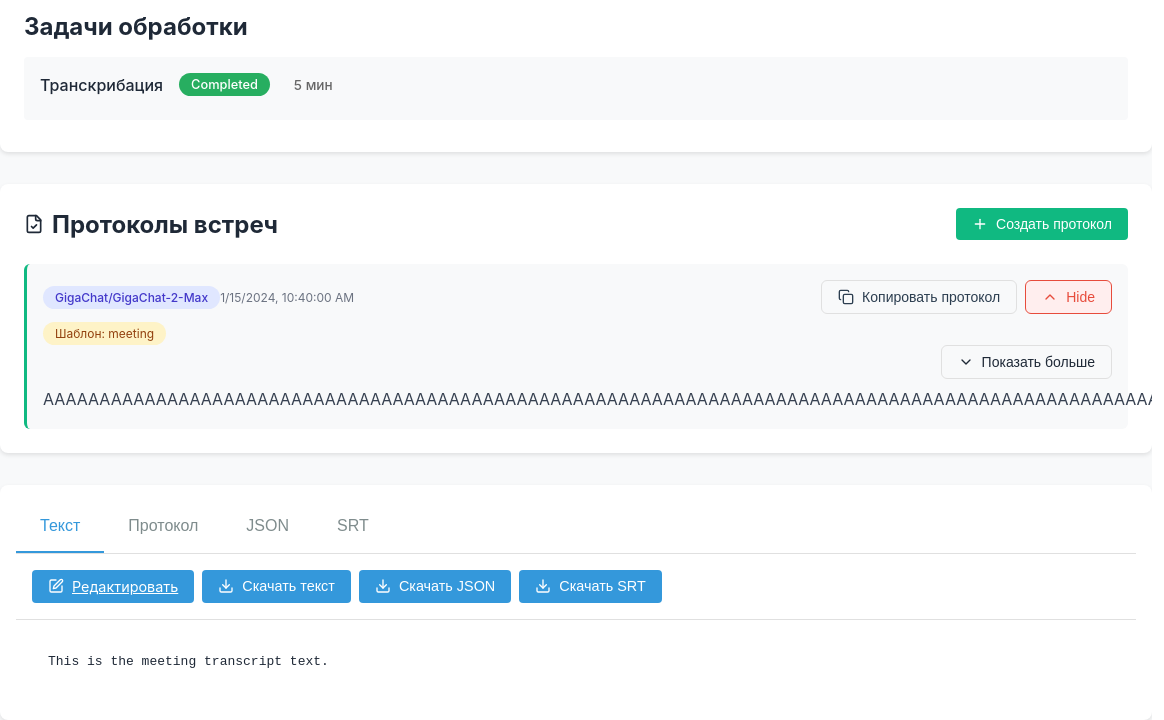
TranscriptDetailPage › Summary Display › should expand long summaries
The width and height of the screenshot is (1164, 720).
(page scrolled)
expect the text "Показать больше" is shown: met, box [982,354,1095,370]
Click the button "Показать больше": (1026, 362) [941,345,1112,379]
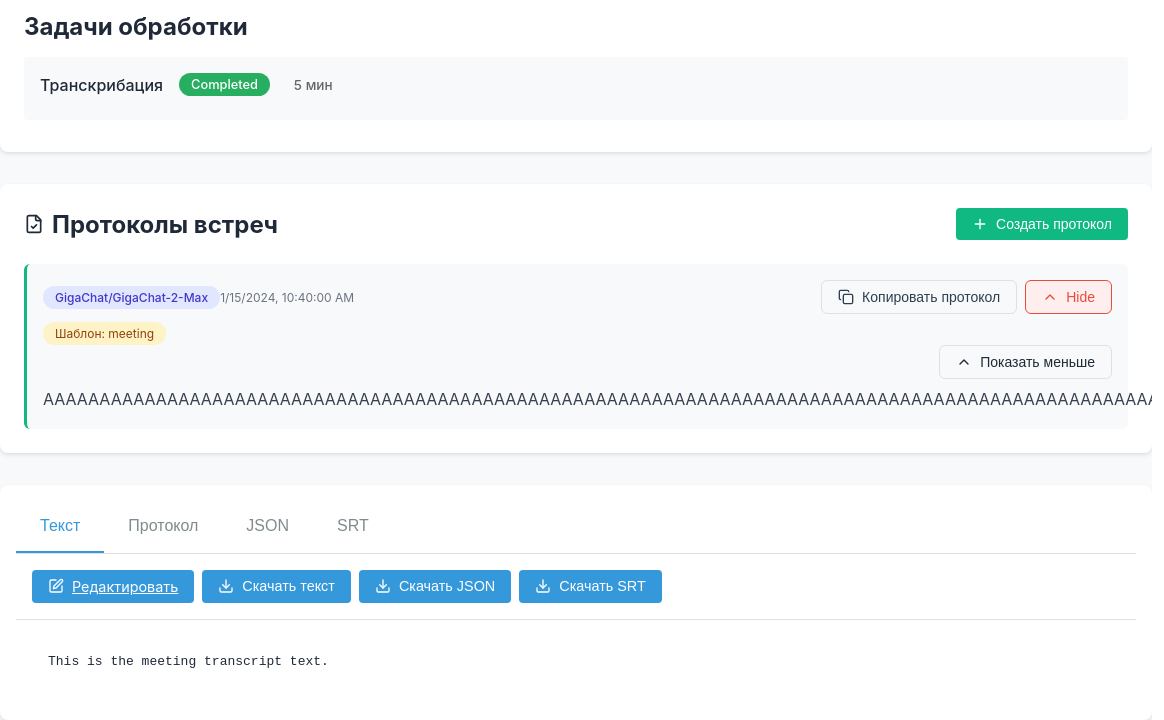
expect the text "Показать меньше" is shown: met, box [980,354,1095,370]
